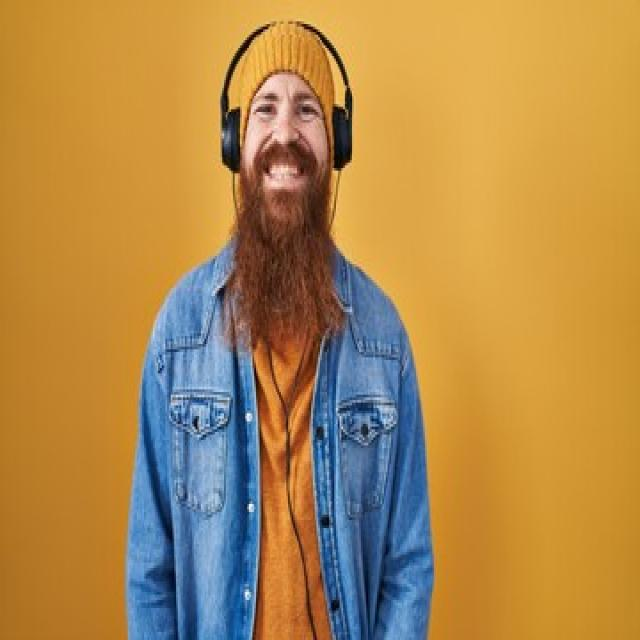Headphone: (217, 15, 355, 176)
